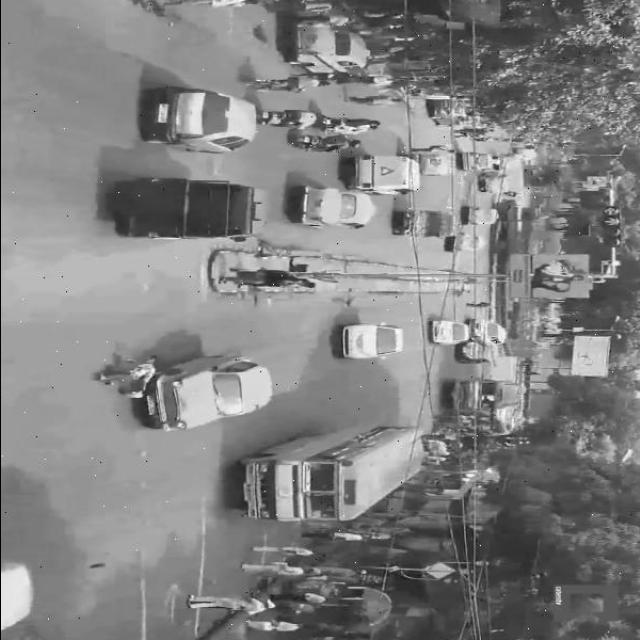accident: (86, 348, 270, 444)
